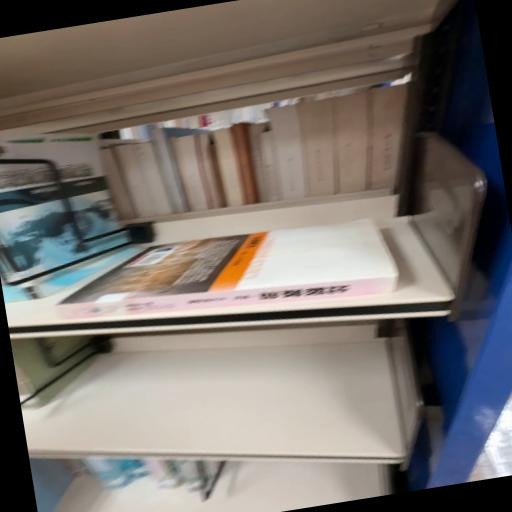flat: (60, 220, 399, 319)
